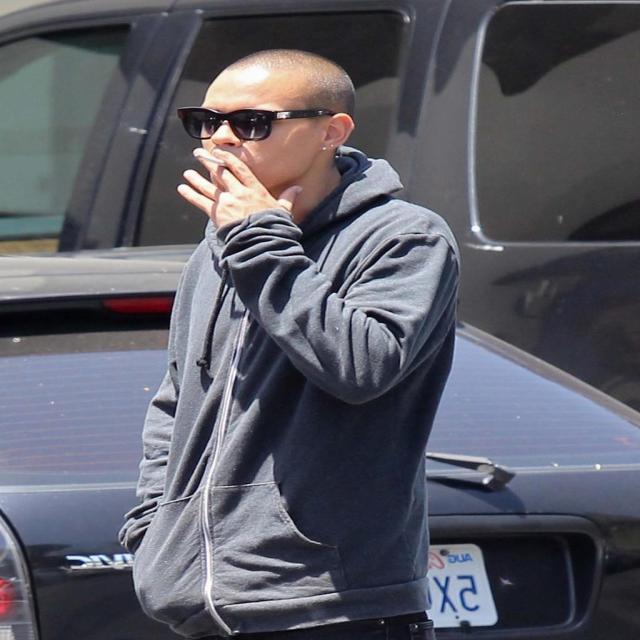smoking: (162, 45, 402, 249)
